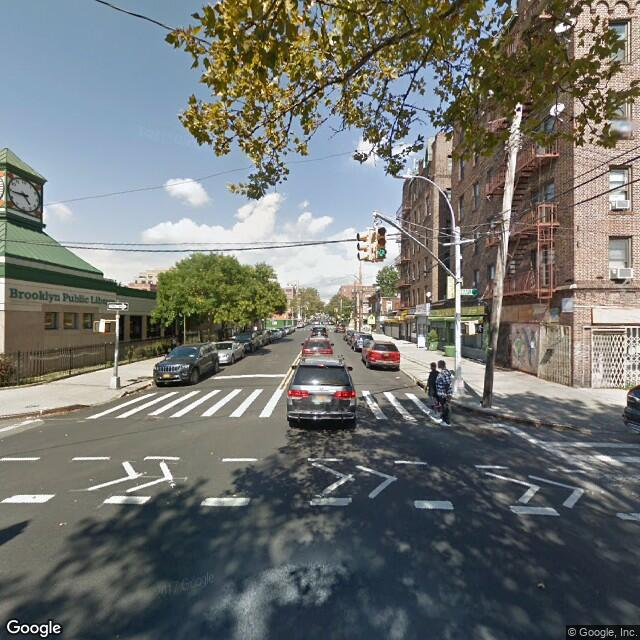litter: (394, 374, 400, 384)
